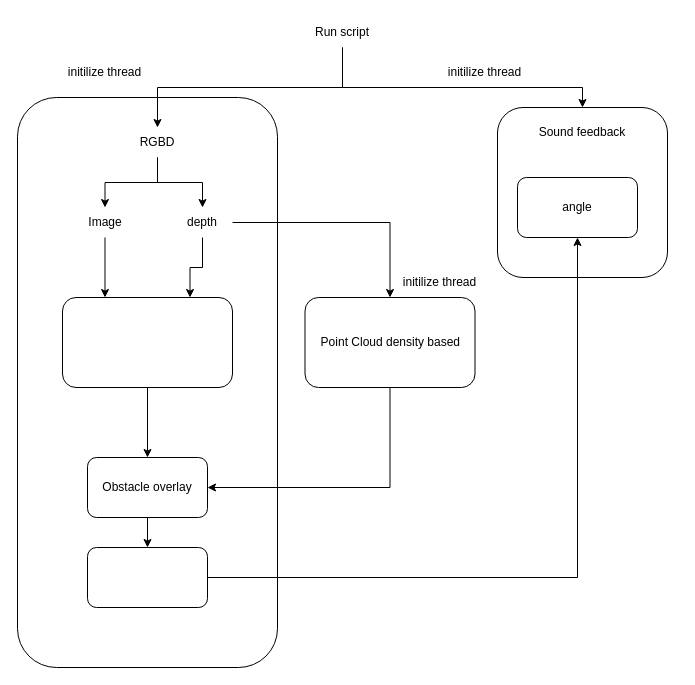
Some shapes in this 695 by 685 pixel diagram are drawn without their labels. The box of each missing label's shape, as (x1, y1, x2, y2) in pixels:
Path plan: (86, 546, 208, 608)
Segmentation based: (62, 296, 232, 388)
